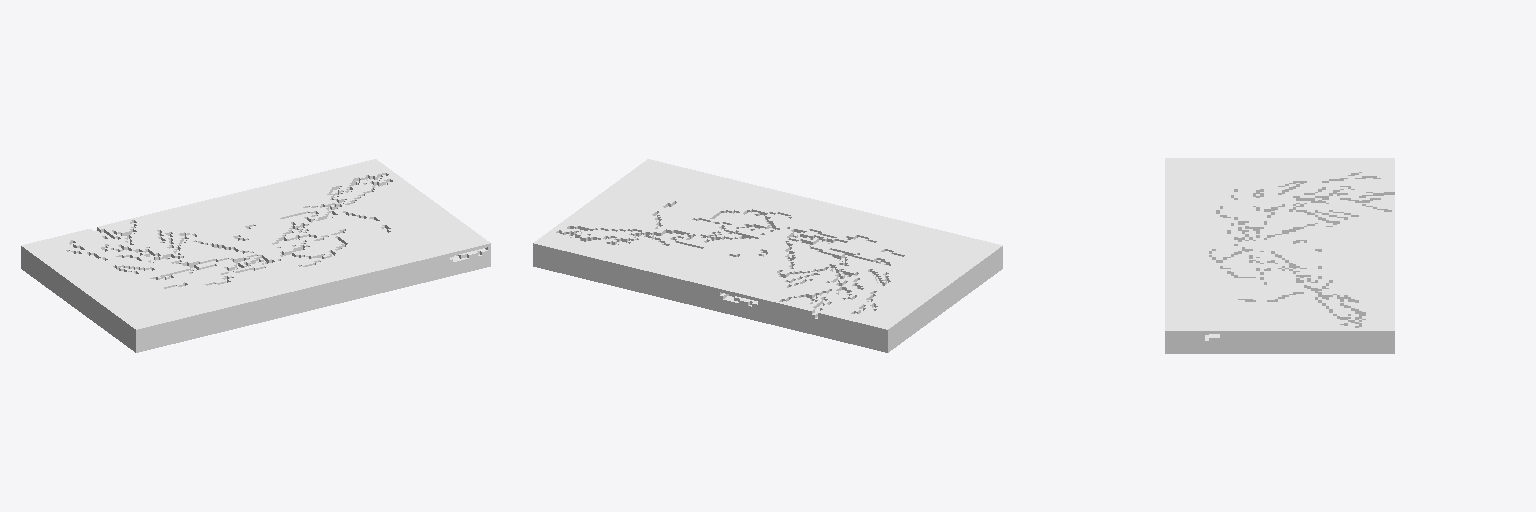
Rendered from big_floors_5.obj.
3 views of the same model, side by side, from view 1: azimuth 30°, elevation 25°; view 2: azimuth 150°, elevation 25°; view 3: azimuth 270°, elevation 25° (orthographic).
Bounding box in the file's own units: 112 × 7 × 63.